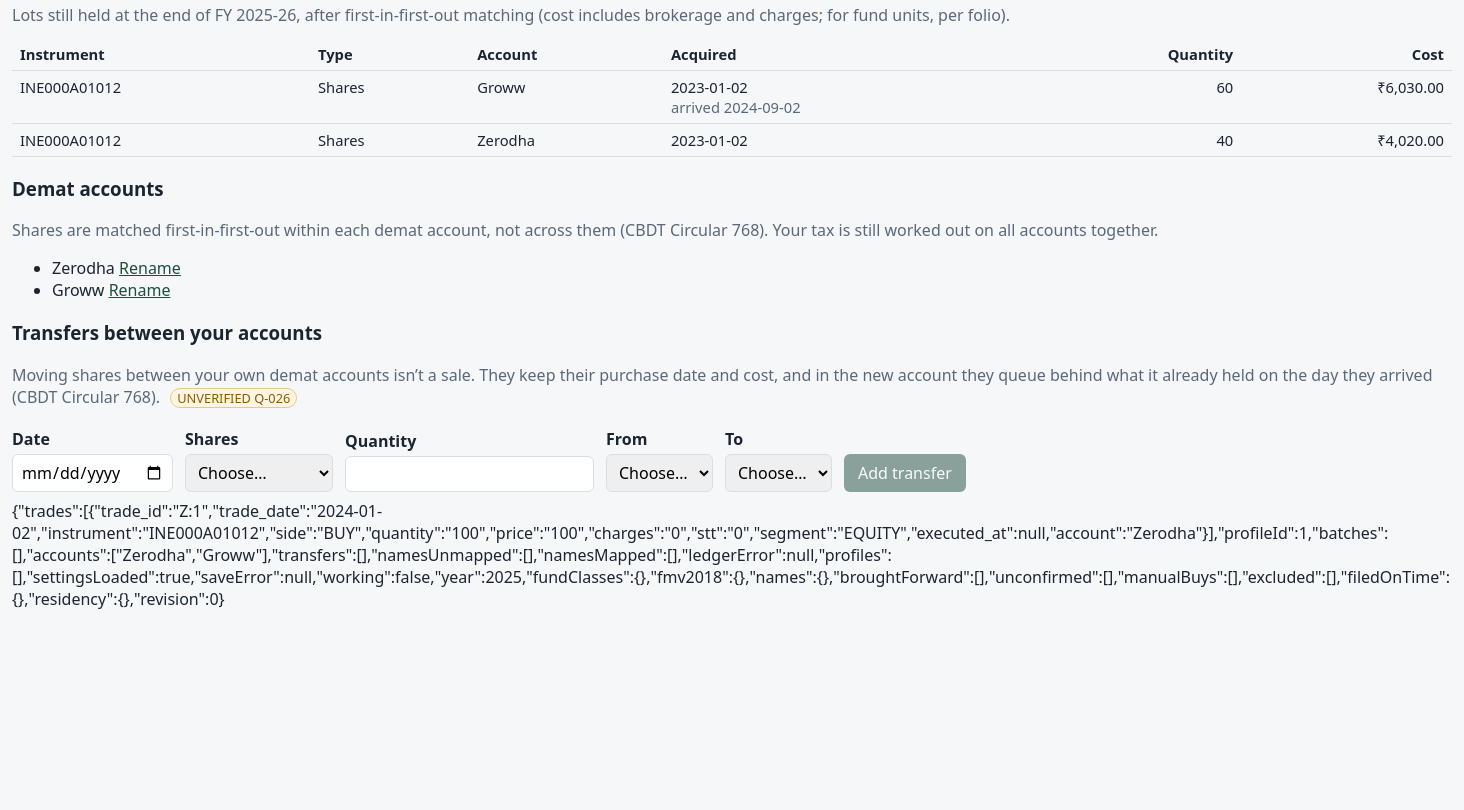
Scenario: Holdings by account › adds a transfer and shows the engine's refusal
The image size is (1464, 810).
Check: the button "Add transfer" is disabled, box [844,454,966,492]
In the date field labelled "Date": (92, 473) [12,454,173,492], type "2024-09-02"
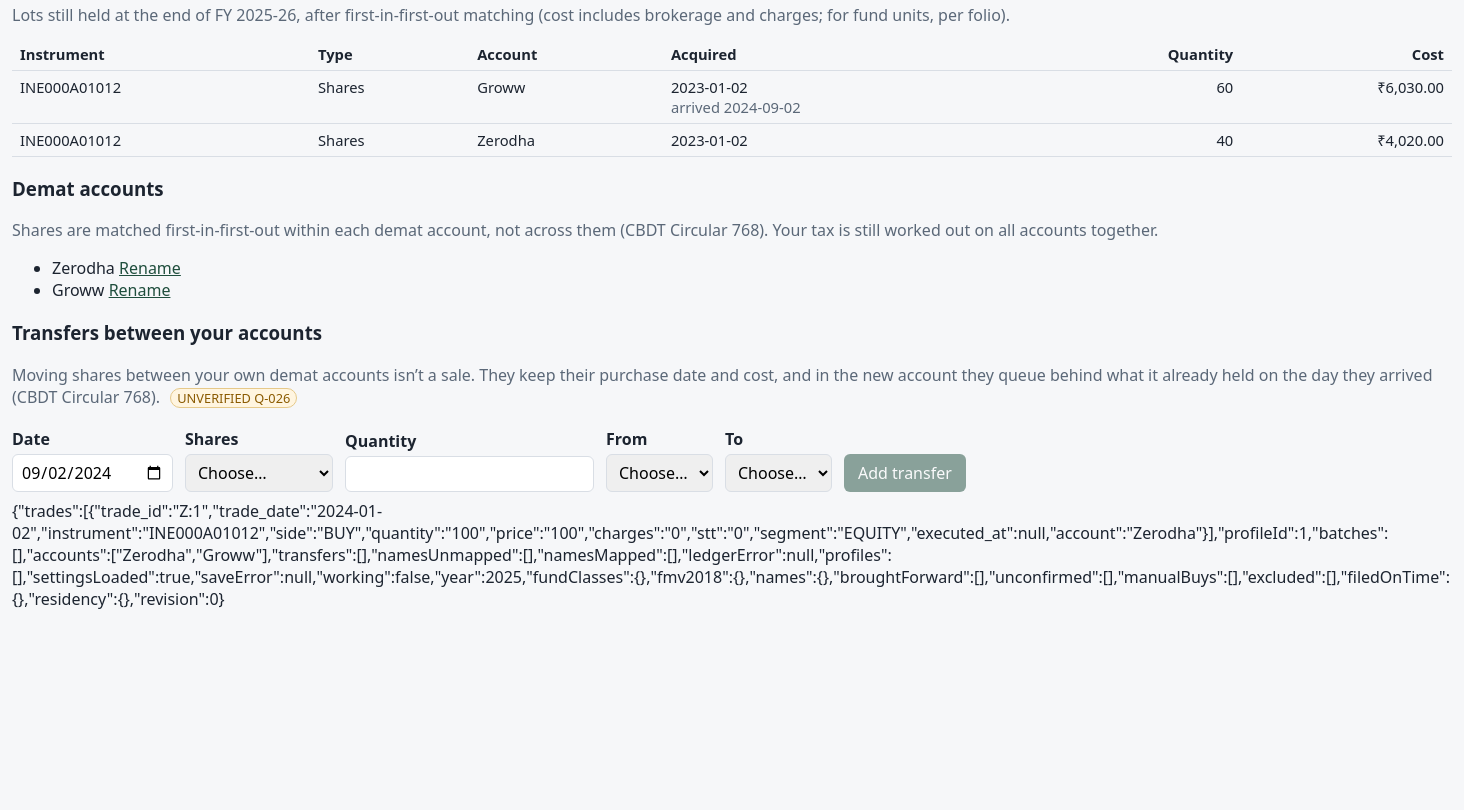
Select "INE000A01012" in the dropdown labelled "Shares": (259, 473) [185,454,333,492]
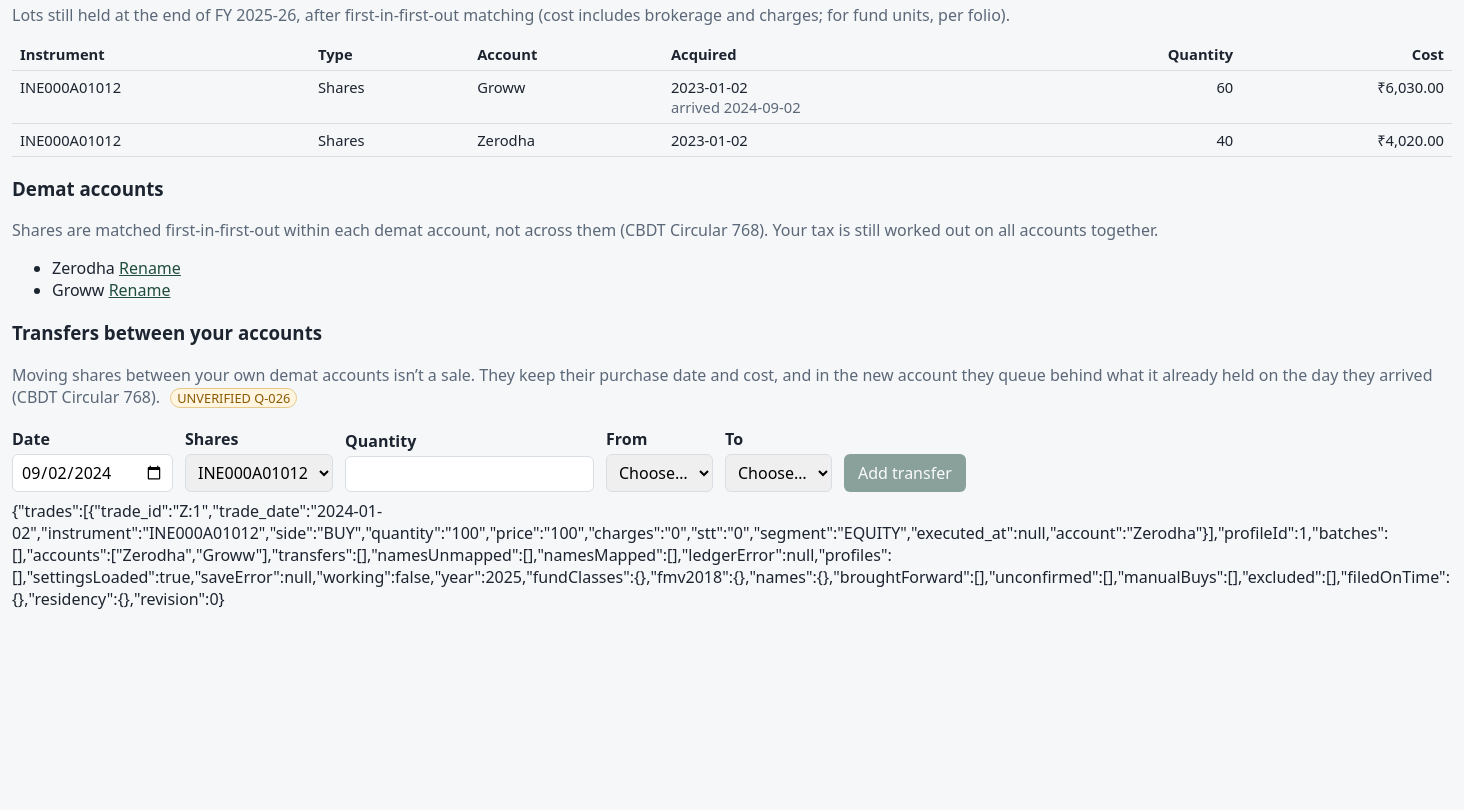
In the field labelled "Quantity": (470, 474) [345,456,594,492], type "60"
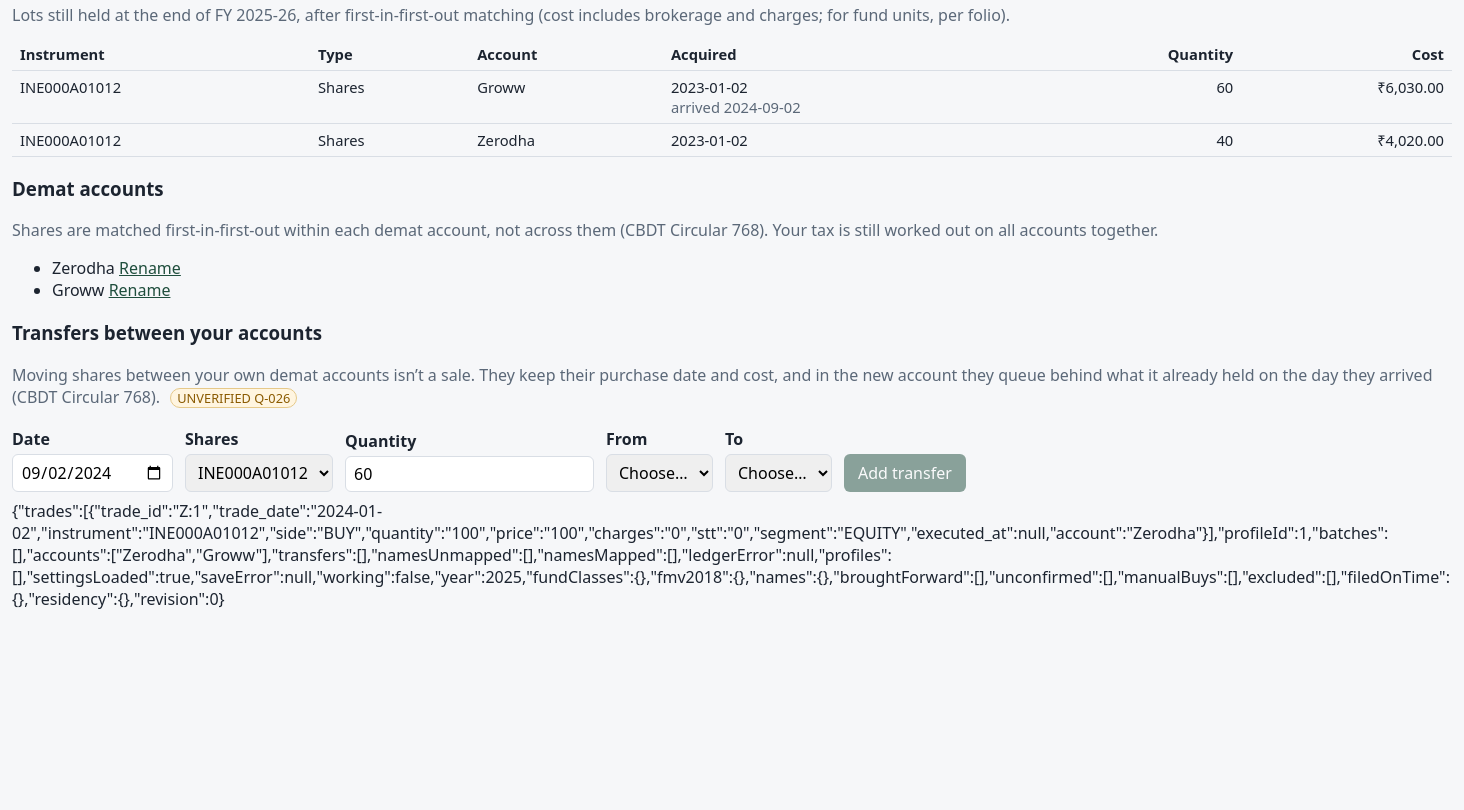
Select "Zerodha" in the dropdown labelled "From": (660, 473) [606,454,713,492]
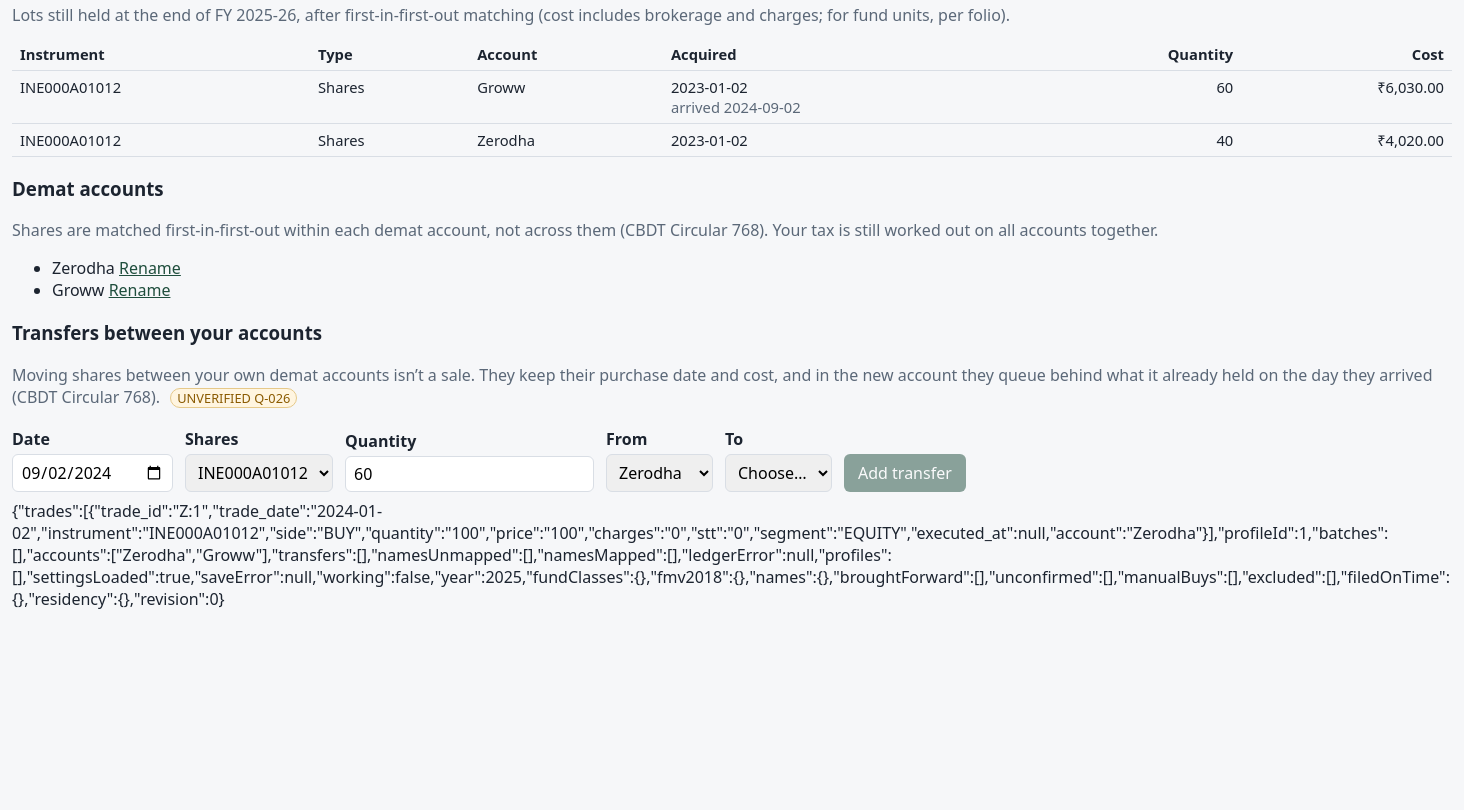
Select "Groww" in the dropdown labelled "To": (778, 473) [725,454,832,492]
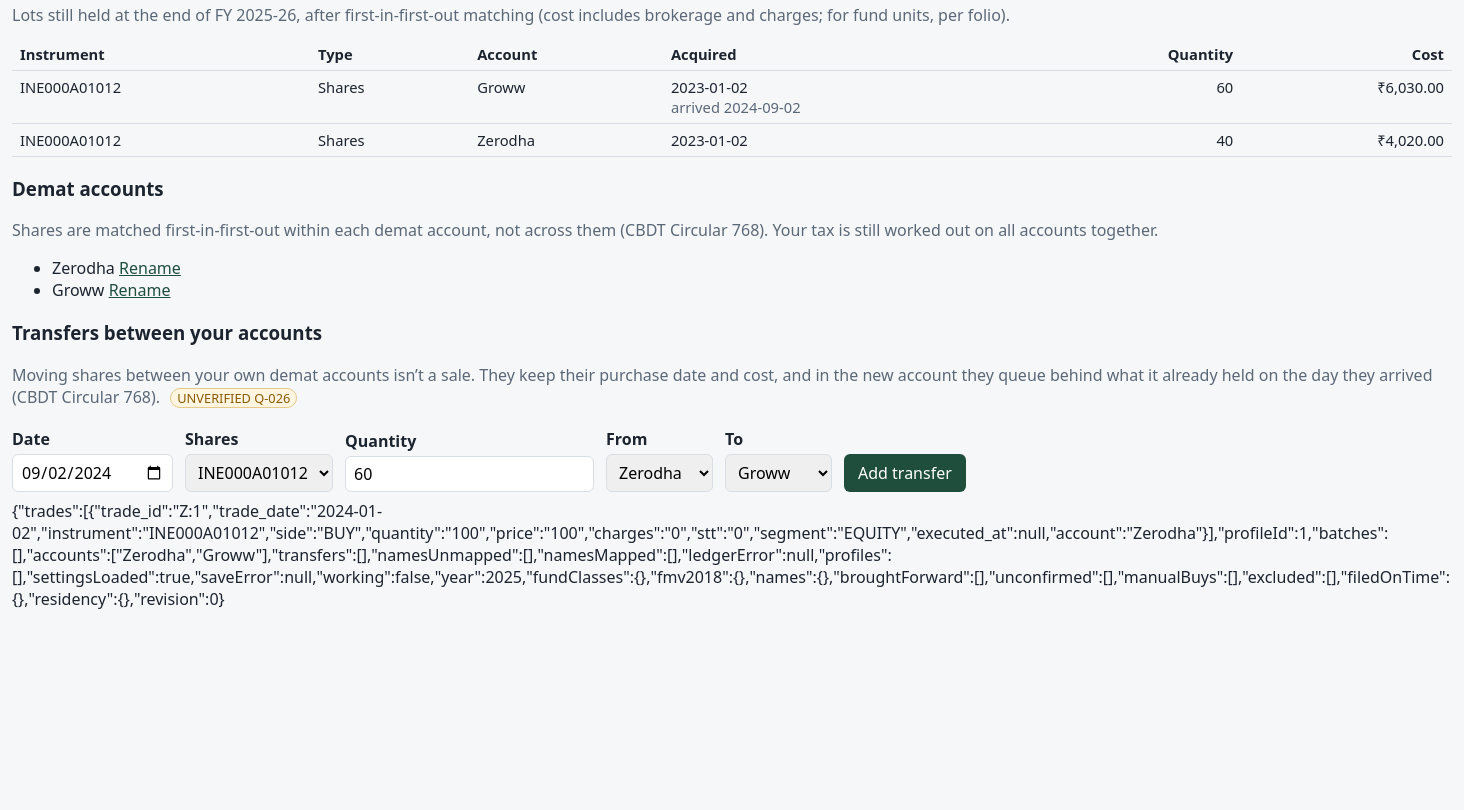
Click the button "Add transfer": (905, 473) [844,454,966,492]
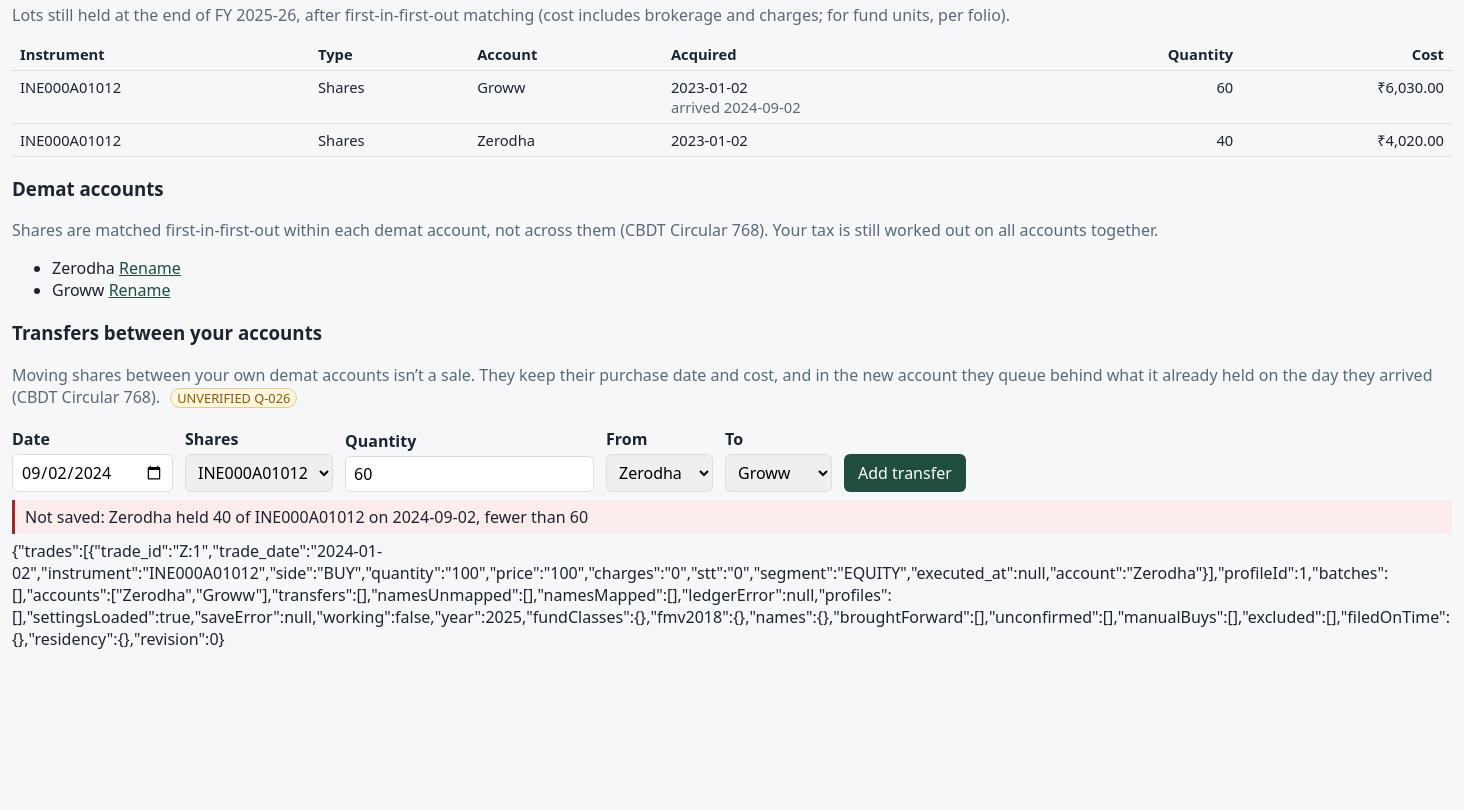
Check: the message shows "Not saved: Zerodha held 40", box [12,500,1452,534]
